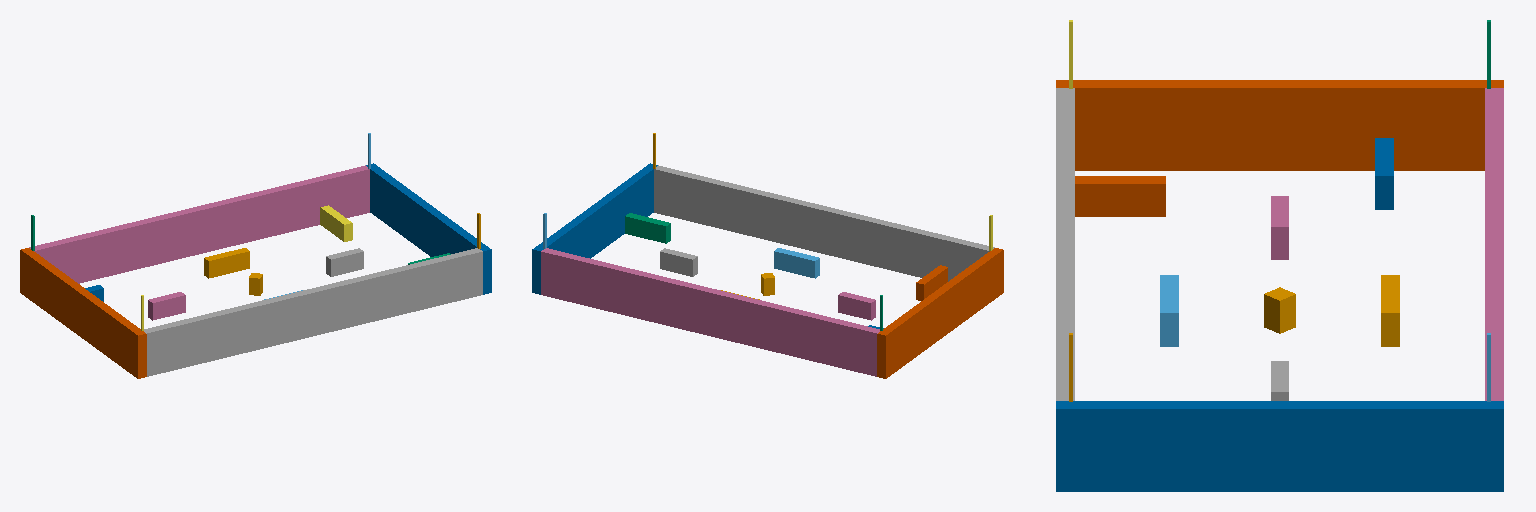
URDF robot description (icra_field):
<?xml version="1.0"?>
<!-- created with Phobos 1.0.1 "Capricious Choutengan" -->
  <robot name="icra_field">

    <link name="LA1">
      <inertial>
        <origin xyz="0 0 0" rpy="0 0 0"/>
        <mass value="0.001"/>
        <inertia ixx="0.001" ixy="0" ixz="0" iyy="0.001" iyz="0" izz="0.001"/>
      </inertial>
      <visual name="A1">
        <origin xyz="0 0 0" rpy="0 0 0"/>
        <geometry>
          <box size="1.0 0.2 0.4"/>
        </geometry>
      </visual>
      <collision name="A1">
        <origin xyz="0 0 0" rpy="0 0 0"/>
        <geometry>
          <box size="1.0 0.2 0.4"/>
        </geometry>
      </collision>
    </link>

    <link name="LA2">
      <inertial>
        <origin xyz="0 0 0" rpy="0 0 0"/>
        <mass value="0.001"/>
        <inertia ixx="0.001" ixy="0" ixz="0" iyy="0.001" iyz="0" izz="0.001"/>
      </inertial>
      <visual name="A2">
        <origin xyz="0 0 0" rpy="0 0 0"/>
        <geometry>
          <box size="1.0 0.2 0.4"/>
        </geometry>
      </visual>
      <collision name="A2">
        <origin xyz="0 0 0" rpy="0 0 0"/>
        <geometry>
          <box size="1.0 0.2 0.4"/>
        </geometry>
      </collision>
    </link>

    <link name="LA3">
      <inertial>
        <origin xyz="0 0 0" rpy="0 0 0"/>
        <mass value="0.001"/>
        <inertia ixx="0.001" ixy="0" ixz="0" iyy="0.001" iyz="0" izz="0.001"/>
      </inertial>
      <visual name="A3">
        <origin xyz="0 0 0" rpy="0 0 0"/>
        <geometry>
          <box size="1.0 0.2 0.4"/>
        </geometry>
      </visual>
      <collision name="A3">
        <origin xyz="0 0 0" rpy="0 0 0"/>
        <geometry>
          <box size="1.0 0.2 0.4"/>
        </geometry>
      </collision>
    </link>

    <link name="LA4">
      <inertial>
        <origin xyz="0 0 0" rpy="0 0 0"/>
        <mass value="0.001"/>
        <inertia ixx="0.001" ixy="0" ixz="0" iyy="0.001" iyz="0" izz="0.001"/>
      </inertial>
      <visual name="A4">
        <origin xyz="0 0 0" rpy="0 0 0"/>
        <geometry>
          <box size="1.0 0.2 0.4"/>
        </geometry>
      </visual>
      <collision name="A4">
        <origin xyz="0 0 0" rpy="0 0 0"/>
        <geometry>
          <box size="1.0 0.2 0.4"/>
        </geometry>
      </collision>
    </link>

    <link name="LA5">
      <inertial>
        <origin xyz="0 0 0" rpy="0 0 0"/>
        <mass value="0.001"/>
        <inertia ixx="0.001" ixy="0" ixz="0" iyy="0.001" iyz="0" izz="0.001"/>
      </inertial>
      <visual name="A5">
        <origin xyz="0 0 0" rpy="0 0 0"/>
        <geometry>
          <box size="1.0 0.2 0.4"/>
        </geometry>
      </visual>
      <collision name="A5">
        <origin xyz="0 0 0" rpy="0 0 0"/>
        <geometry>
          <box size="1.0 0.2 0.4"/>
        </geometry>
      </collision>
    </link>

    <link name="LA6">
      <inertial>
        <origin xyz="0 0 0" rpy="0 0 0"/>
        <mass value="0.001"/>
        <inertia ixx="0.001" ixy="0" ixz="0" iyy="0.001" iyz="0" izz="0.001"/>
      </inertial>
      <visual name="A6">
        <origin xyz="0 0 0" rpy="0 0 0"/>
        <geometry>
          <box size="1.0 0.2 0.4"/>
        </geometry>
      </visual>
      <collision name="A6">
        <origin xyz="0 0 0" rpy="0 0 0"/>
        <geometry>
          <box size="1.0 0.2 0.4"/>
        </geometry>
      </collision>
    </link>

    <link name="LB1">
      <inertial>
        <origin xyz="0 0 0" rpy="0 0 0"/>
        <mass value="0.001"/>
        <inertia ixx="0.001" ixy="0" ixz="0" iyy="0.001" iyz="0" izz="0.001"/>
      </inertial>
      <visual name="B1">
        <origin xyz="0 0 0" rpy="0 0 0"/>
        <geometry>
          <box size="0.8 0.2 0.4"/>
        </geometry>
      </visual>
      <collision name="B1">
        <origin xyz="0 0 0" rpy="0 0 0"/>
        <geometry>
          <box size="0.8 0.2 0.4"/>
        </geometry>
      </collision>
    </link>

    <link name="LB2">
      <inertial>
        <origin xyz="0 0 0" rpy="0 0 0"/>
        <mass value="0.001"/>
        <inertia ixx="0.001" ixy="0" ixz="0" iyy="0.001" iyz="0" izz="0.001"/>
      </inertial>
      <visual name="B2">
        <origin xyz="0 0 0" rpy="0 0 0"/>
        <geometry>
          <box size="0.8 0.2 0.4"/>
        </geometry>
      </visual>
      <collision name="B2">
        <origin xyz="0 0 0" rpy="0 0 0"/>
        <geometry>
          <box size="0.8 0.2 0.4"/>
        </geometry>
      </collision>
    </link>

    <link name="LD1">
      <inertial>
        <origin xyz="0 0 0" rpy="0 0 0"/>
        <mass value="0.001"/>
        <inertia ixx="0.001" ixy="0" ixz="0" iyy="0.001" iyz="0" izz="0.001"/>
      </inertial>
      <visual name="D1">
        <origin xyz="0 0 0" rpy="0 0 0"/>
        <geometry>
          <box size="0.05 0.05 1.8"/>
        </geometry>
      </visual>
      <collision name="D1">
        <origin xyz="0 0 0" rpy="0 0 0"/>
        <geometry>
          <box size="0.05 0.05 1.8"/>
        </geometry>
      </collision>
    </link>

    <link name="LD2">
      <inertial>
        <origin xyz="0 0 0" rpy="0 0 0"/>
        <mass value="0.001"/>
        <inertia ixx="0.001" ixy="0" ixz="0" iyy="0.001" iyz="0" izz="0.001"/>
      </inertial>
      <visual name="D2">
        <origin xyz="0 0 0" rpy="0 0 0"/>
        <geometry>
          <box size="0.05 0.05 1.8"/>
        </geometry>
      </visual>
      <collision name="D2">
        <origin xyz="0 0 0" rpy="0 0 0"/>
        <geometry>
          <box size="0.05 0.05 1.8"/>
        </geometry>
      </collision>
    </link>

    <link name="LD3">
      <inertial>
        <origin xyz="0 0 0" rpy="0 0 0"/>
        <mass value="0.001"/>
        <inertia ixx="0.001" ixy="0" ixz="0" iyy="0.001" iyz="0" izz="0.001"/>
      </inertial>
      <visual name="D3">
        <origin xyz="0 0 0" rpy="0 0 0"/>
        <geometry>
          <box size="0.05 0.05 1.8"/>
        </geometry>
      </visual>
      <collision name="D3">
        <origin xyz="0 0 0" rpy="0 0 0"/>
        <geometry>
          <box size="0.05 0.05 1.8"/>
        </geometry>
      </collision>
    </link>

    <link name="LD4">
      <inertial>
        <origin xyz="0 0 0" rpy="0 0 0"/>
        <mass value="0.001"/>
        <inertia ixx="0.001" ixy="0" ixz="0" iyy="0.001" iyz="0" izz="0.001"/>
      </inertial>
      <visual name="D4">
        <origin xyz="0 0 0" rpy="0 0 0"/>
        <geometry>
          <box size="0.05 0.05 1.8"/>
        </geometry>
      </visual>
      <collision name="D4">
        <origin xyz="0 0 0" rpy="0 0 0"/>
        <geometry>
          <box size="0.05 0.05 1.8"/>
        </geometry>
      </collision>
    </link>

    <link name="LW1">
      <inertial>
        <origin xyz="0 0 0" rpy="0 0 0"/>
        <mass value="0.001"/>
        <inertia ixx="0.001" ixy="0" ixz="0" iyy="0.001" iyz="0" izz="0.001"/>
      </inertial>
      <visual name="W1">
        <origin xyz="0 0 0" rpy="0 0 0"/>
        <geometry>
          <box size="0.205 4.89 1.0"/>
        </geometry>
      </visual>
      <collision name="W1">
        <origin xyz="0 0 0" rpy="0 0 0"/>
        <geometry>
          <box size="0.205 4.89 1.0"/>
        </geometry>
      </collision>
    </link>

    <link name="LW2">
      <inertial>
        <origin xyz="0 0 0" rpy="0 0 0"/>
        <mass value="0.001"/>
        <inertia ixx="0.001" ixy="0" ixz="0" iyy="0.001" iyz="0" izz="0.001"/>
      </inertial>
      <visual name="W2">
        <origin xyz="0 0 0" rpy="0 0 0"/>
        <geometry>
          <box size="0.205 4.89 1.0"/>
        </geometry>
      </visual>
      <collision name="W2">
        <origin xyz="0 0 0" rpy="0 0 0"/>
        <geometry>
          <box size="0.205 4.89 1.0"/>
        </geometry>
      </collision>
    </link>

    <link name="LW3">
      <inertial>
        <origin xyz="0 0 0" rpy="0 0 0"/>
        <mass value="0.001"/>
        <inertia ixx="0.001" ixy="0" ixz="0" iyy="0.001" iyz="0" izz="0.001"/>
      </inertial>
      <visual name="W3">
        <origin xyz="0 0 0" rpy="0 0 0"/>
        <geometry>
          <box size="8.08 0.205 1.0"/>
        </geometry>
      </visual>
      <collision name="W3">
        <origin xyz="0 0 0" rpy="0 0 0"/>
        <geometry>
          <box size="8.08 0.205 1.0"/>
        </geometry>
      </collision>
    </link>

    <link name="LW4">
      <inertial>
        <origin xyz="0 0 0" rpy="0 0 0"/>
        <mass value="0.001"/>
        <inertia ixx="0.001" ixy="0" ixz="0" iyy="0.001" iyz="0" izz="0.001"/>
      </inertial>
      <visual name="W4">
        <origin xyz="0 0 0" rpy="0 0 0"/>
        <geometry>
          <box size="8.08 0.205 1.0"/>
        </geometry>
      </visual>
      <collision name="W4">
        <origin xyz="0 0 0" rpy="0 0 0"/>
        <geometry>
          <box size="8.08 0.205 1.0"/>
        </geometry>
      </collision>
    </link>

    <link name="Lcenter">
      <inertial>
        <origin xyz="0 0 0" rpy="0 0 0"/>
        <mass value="0.001"/>
        <inertia ixx="0.001" ixy="0" ixz="0" iyy="0.001" iyz="0" izz="0.001"/>
      </inertial>
      <visual name="center">
        <origin xyz="0 0 0" rpy="0 0 0"/>
        <geometry>
          <box size="0.25 0.25 0.4"/>
        </geometry>
      </visual>
      <collision name="center">
        <origin xyz="0 0 0" rpy="0 0 0"/>
        <geometry>
          <box size="0.25 0.25 0.4"/>
        </geometry>
      </collision>
    </link>

<!-- A virtual link to organize all the links -->
    <link name="Lfield">
      <inertial>
        <origin xyz="0 0 0" rpy="0 0 0"/>
        <mass value="0.001"/>
        <inertia ixx="0.001" ixy="0" ixz="0" iyy="0.001" iyz="0" izz="0.001"/>
      </inertial>
    </link>

    <joint name="LA1" type="fixed">
      <origin xyz="0 1.205 -0.3" rpy="0 0 0"/>
      <parent link="Lfield"/>
      <child link="LA1"/>
    </joint>

    <joint name="LA2" type="fixed">
      <origin xyz="0 -1.205 -0.3" rpy="0 0 0"/>
      <parent link="Lfield"/>
      <child link="LA2"/>
    </joint>

    <joint name="LA3" type="fixed">
      <origin xyz="3.54 -1.14 -0.3" rpy="0 0 0"/>
      <parent link="Lfield"/>
      <child link="LA3"/>
    </joint>

    <joint name="LA4" type="fixed">
      <origin xyz="2.94 1.74 -0.3" rpy="0 0 1.5708"/>
      <parent link="Lfield"/>
      <child link="LA4"/>
    </joint>

    <joint name="LA5" type="fixed">
      <origin xyz="-3.54 1.14 -0.3" rpy="0 0 0"/>
      <parent link="Lfield"/>
      <child link="LA5"/>
    </joint>

    <joint name="LA6" type="fixed">
      <origin xyz="-2.94 -1.74 -0.3" rpy="0 0 1.5708"/>
      <parent link="Lfield"/>
      <child link="LA6"/>
    </joint>

    <joint name="LB1" type="fixed">
      <origin xyz="-2.14 0 -0.3" rpy="0 0 0"/>
      <parent link="Lfield"/>
      <child link="LB1"/>
    </joint>

    <joint name="LB2" type="fixed">
      <origin xyz="2.14 0 -0.3" rpy="0 0 0"/>
      <parent link="Lfield"/>
      <child link="LB2"/>
    </joint>

    <joint name="LD1" type="fixed">
      <origin xyz="4.04 -2.28 0.4" rpy="0 0 0"/>
      <parent link="Lfield"/>
      <child link="LD1"/>
    </joint>

    <joint name="LD2" type="fixed">
      <origin xyz="4.04 2.28 0.4" rpy="0 0 0"/>
      <parent link="Lfield"/>
      <child link="LD2"/>
    </joint>

    <joint name="LD3" type="fixed">
      <origin xyz="-4.04 2.28 0.4" rpy="0 0 0"/>
      <parent link="Lfield"/>
      <child link="LD3"/>
    </joint>

    <joint name="LD4" type="fixed">
      <origin xyz="-4.04 -2.28 0.4" rpy="0 0 0"/>
      <parent link="Lfield"/>
      <child link="LD4"/>
    </joint>

    <joint name="LW1" type="fixed">
      <origin xyz="4.1425 0 0" rpy="0 0 0"/>
      <parent link="Lfield"/>
      <child link="LW1"/>
    </joint>

    <joint name="LW2" type="fixed">
      <origin xyz="-4.1425 0 0" rpy="0 0 0"/>
      <parent link="Lfield"/>
      <child link="LW2"/>
    </joint>

    <joint name="LW3" type="fixed">
      <origin xyz="0 2.3425 0" rpy="0 0 0"/>
      <parent link="Lfield"/>
      <child link="LW3"/>
    </joint>

    <joint name="LW4" type="fixed">
      <origin xyz="0 -2.3425 0" rpy="0 0 0"/>
      <parent link="Lfield"/>
      <child link="LW4"/>
    </joint>

    <joint name="Lcenter" type="fixed">
      <origin xyz="0 0 -0.3" rpy="0 0 0.7854"/>
      <parent link="Lfield"/>
      <child link="Lcenter"/>
    </joint>

  </robot>

--- What the picture shows (computed from the rendered views, not written in the file) ---
Views: 3 orthographic renders of the robot side by side, from view 1: azimuth 30°, elevation 25°; view 2: azimuth 150°, elevation 25°; view 3: azimuth 270°, elevation 25°.
Model icra_field with 18 links and 17 joints (17 fixed), rooted at Lfield, posed all joints at 0.
Visible links, largest first — view 1: LW4, LW3, LW2, LW1, LA1, LB2, LB1, LA4; view 2: LW3, LW4, LW2, LW1, LA2, LA3, LB2, LB1, LA6; view 3: LW1, LW2, LW3, LW4, LA6, LA1, LA2, LA5, Lcenter, LB1, LB2.
Link boxes in pixels (x1,y1,x2,y2): LW4: [144, 248, 482, 376]; LW3: [29, 165, 369, 283]; LW2: [20, 248, 146, 378]; LW1: [366, 163, 491, 294]; LA1: [204, 248, 249, 278]; LB2: [326, 248, 363, 276]; LB1: [148, 292, 185, 320]; LA4: [320, 205, 352, 241]; LW3: [541, 248, 879, 376]; LW4: [654, 165, 994, 281]; LW2: [877, 248, 1003, 378]; LW1: [532, 163, 657, 294]; LA2: [774, 248, 819, 278]; LA3: [625, 213, 670, 243]; LB2: [660, 248, 697, 276]; LB1: [838, 292, 875, 320]; LA6: [916, 265, 947, 300]; LW1: [1056, 401, 1503, 491]; LW2: [1056, 80, 1503, 170]; LW3: [1485, 88, 1503, 400]; LW4: [1056, 88, 1074, 400]; LA6: [1075, 176, 1165, 216]; LA1: [1381, 275, 1399, 346]; LA2: [1160, 275, 1178, 346]; LA5: [1375, 138, 1393, 209]; Lcenter: [1264, 287, 1295, 333]; LB1: [1271, 196, 1288, 259]; LB2: [1271, 361, 1288, 400].
Bounding box of the posed robot: 8.49 × 4.89 × 1.8 m (x, y, z).
Geometry: primitives only (box / cylinder / sphere), no mesh files.